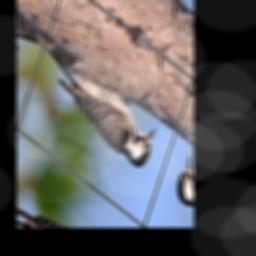Woodpecker: (32, 35, 164, 179)
